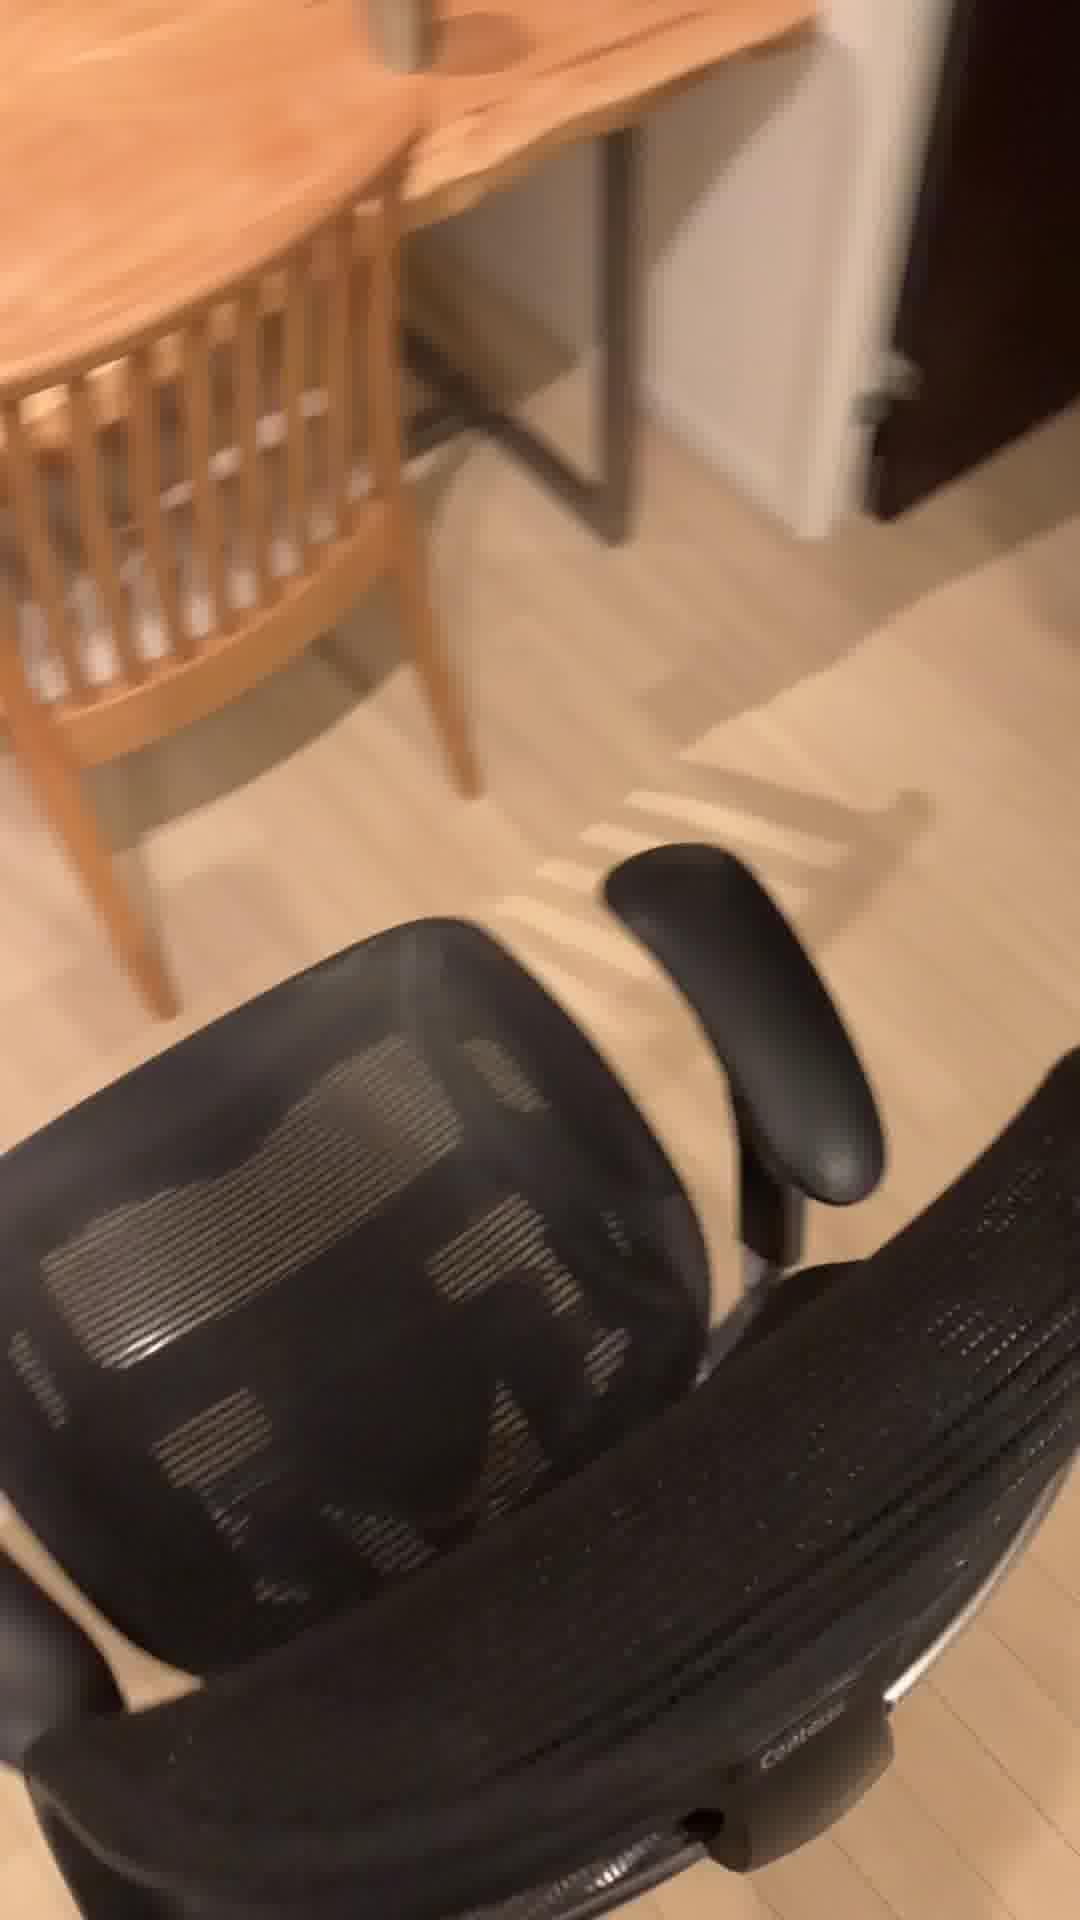okamura-contessa: (0, 837, 1080, 1920)
